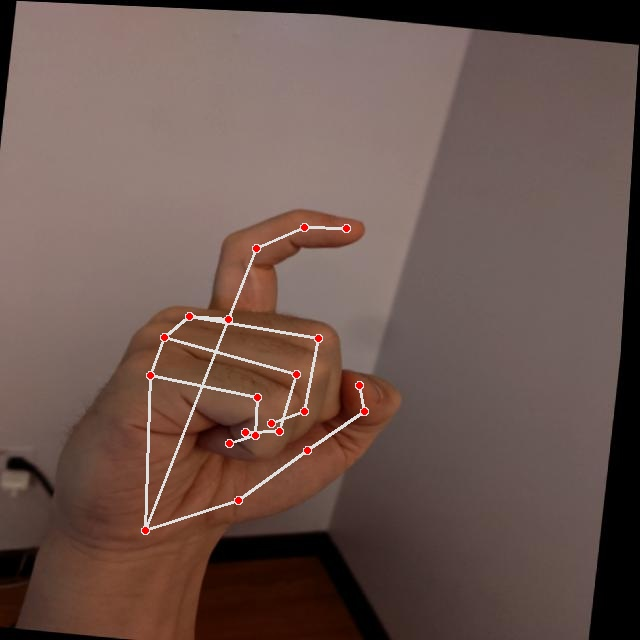X: (35, 183, 432, 565)
